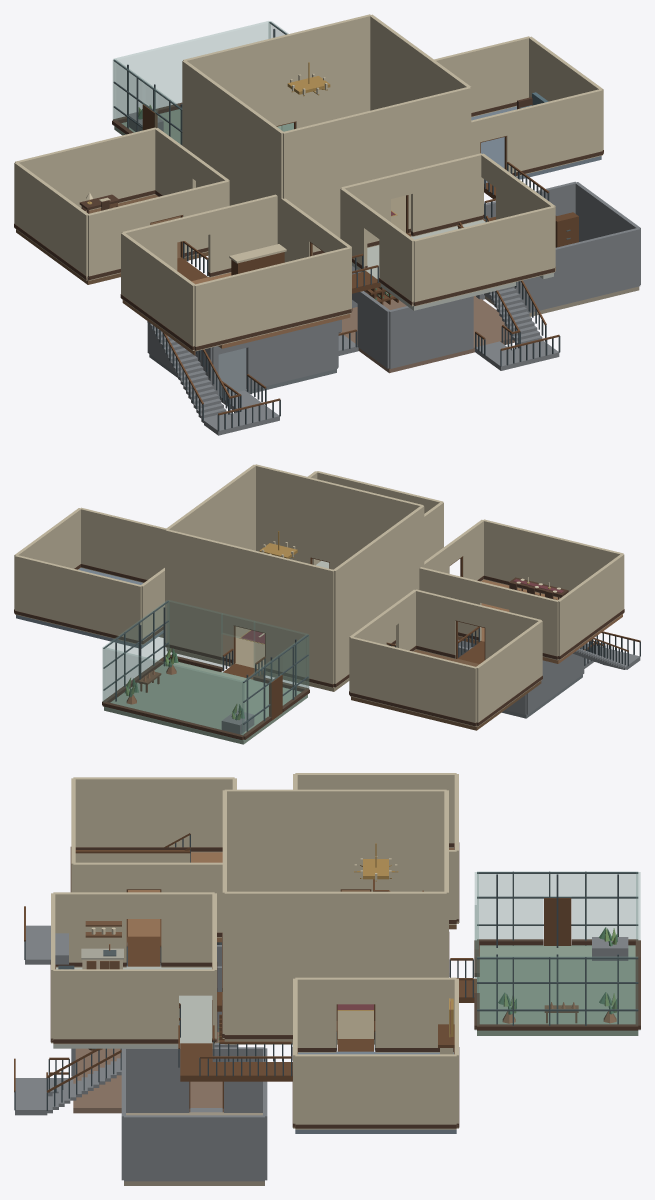
Rendered from Mansion_Environment_Pass02.fbx.
3 views of the same model, one above another, from view 1: azimuth 30°, elevation 25°; view 2: azimuth 150°, elevation 25°; view 3: azimuth 270°, elevation 25° (orthographic). The views are drawn at different scales.
Parts seen in each view (by area): view 1: R04_Wall_South_Pier_00, R05_Wall_South_Pier_00, R01_Wall_South_Pier_00, R01_Wall_North_Pier_02, R02_Wall_North_Pier_00, R03_Wall_South_Pier_02, R09_Wall_South_Pier_00, R06_Wall_North_Pier_00, R01_Wall_West_Pier_00, R02_Wall_West_Pier_00, R04_Wall_West_Pier_00, R08_Wall_South_Pier_00 (+45 smaller); view 2: R01_Wall_North_Pier_02, R06_Wall_North_Pier_00, R01_Wall_North_Pier_00, R02_Wall_North_Pier_00, R03_Wall_North_Pier_00, R06_Floor, R04_Wall_South_Pier_00, R03_Wall_South_Pier_02, R01_Wall_South_Pier_02, R01_Wall_South_Pier_00, R02_Wall_West_Pier_00, R04_Wall_West_Pier_00 (+38 smaller); view 3: R01_Wall_East_Pier_00, R03_Wall_East_Pier_00, R01_Wall_West_Pier_00, R06_Wall_East_Pier_00, R06_Floor, R04_Wall_West_Pier_00, R09_Wall_East_Pier_00, R05_Wall_East_Pier_00, R01_Wall_West_Pier_02, R01_Wall_East_Pier_02, R03_Wall_West_Pier_02, R06_Wall_West_Pier_00 (+36 smaller).
Boxes of the visible parts, x1,y1,x2,y2 form: R04_Wall_South_Pier_00: (194,247,351,351); R05_Wall_South_Pier_00: (413,206,554,306); R01_Wall_South_Pier_00: (283,107,386,252); R01_Wall_North_Pier_02: (295,14,371,128); R02_Wall_North_Pier_00: (15,127,156,211); R03_Wall_South_Pier_02: (505,89,602,176); R09_Wall_South_Pier_00: (514,228,640,313); R06_Wall_North_Pier_00: (113,21,270,119); R01_Wall_West_Pier_00: (229,95,283,244); R02_Wall_West_Pier_00: (14,162,89,280); R04_Wall_West_Pier_00: (121,233,195,350); R08_Wall_South_Pier_00: (388,296,473,368); R01_Wall_North_Pier_02: (165,529,234,663); R06_Wall_North_Pier_00: (103,647,243,740); R01_Wall_North_Pier_00: (265,553,334,687); R02_Wall_North_Pier_00: (350,637,476,726); R03_Wall_North_Pier_00: (15,555,141,644); R06_Floor: (104,659,307,744); R04_Wall_South_Pier_00: (484,519,623,597); R03_Wall_South_Pier_02: (81,507,165,582); R01_Wall_South_Pier_02: (255,464,311,563); R01_Wall_South_Pier_00: (330,482,423,569); R02_Wall_West_Pier_00: (476,620,542,726); R04_Wall_West_Pier_00: (558,554,624,659); R01_Wall_East_Pier_00: (224,891,336,1039); R03_Wall_East_Pier_00: (295,1054,456,1129); R01_Wall_West_Pier_00: (224,789,340,891); R06_Wall_East_Pier_00: (477,956,637,1025); R06_Floor: (477,945,638,1035); R04_Wall_West_Pier_00: (73,777,234,852); R09_Wall_East_Pier_00: (124,1115,264,1181); R05_Wall_East_Pier_00: (53,969,178,1044); R01_Wall_West_Pier_02: (371,789,446,891); R01_Wall_East_Pier_02: (375,891,446,977); R03_Wall_West_Pier_02: (375,977,456,1052); R06_Wall_West_Pier_00: (477,871,543,940).
Size of what is drawn, in the model's own units: 3326 by 1232 by 3108.
